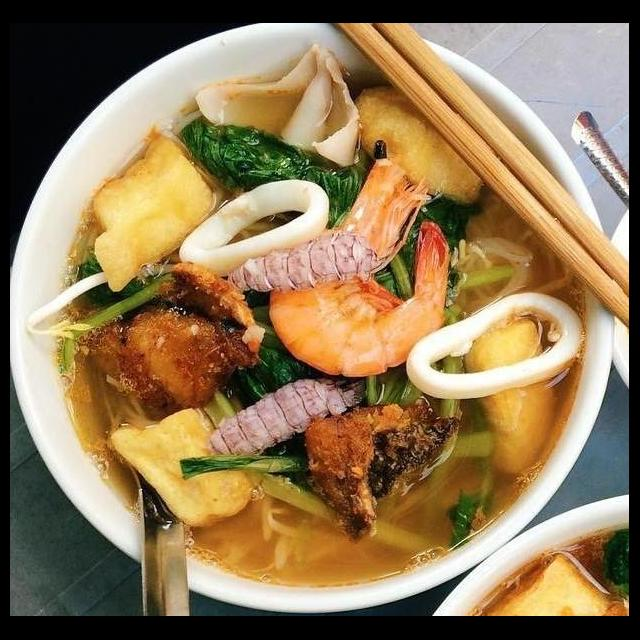bun: (443, 190, 578, 324)
bun hai san: (48, 75, 614, 616)
ca: (66, 256, 272, 428), (298, 390, 466, 546)
dau hu: (101, 404, 272, 536), (86, 128, 220, 294), (346, 80, 500, 212), (460, 312, 564, 479)
muc: (192, 40, 366, 172), (403, 286, 592, 404), (174, 175, 336, 282)
tom: (266, 136, 454, 382)
tom tit: (200, 368, 380, 466), (218, 226, 386, 302)
